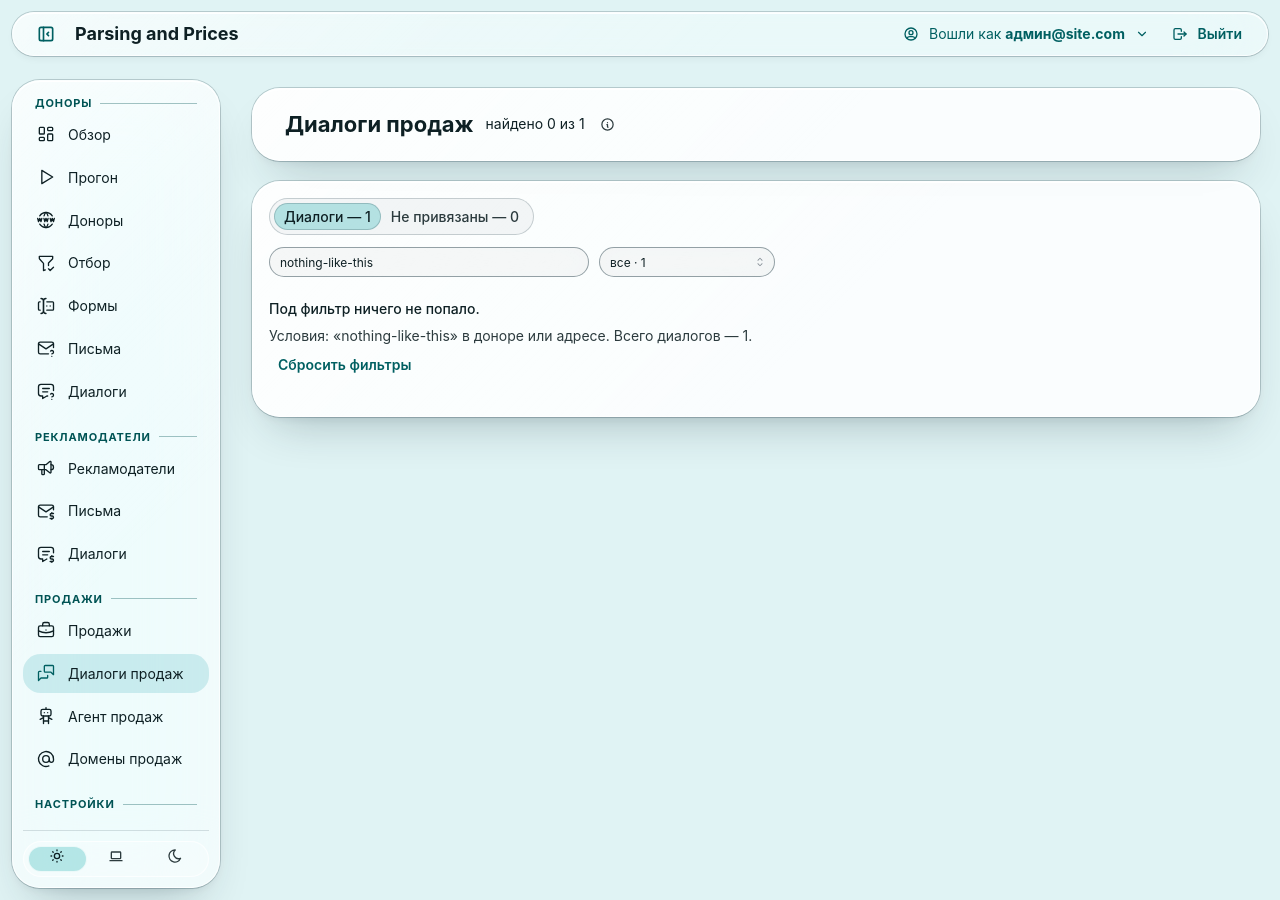
Test: части списка диалогов › сброс фильтров часть не сбрасывает: диалоги продаж остаются диалогами продаж
Expected: the navigation bar named "Разделы" is shown, top-left (0, 68), bottom-right (232, 899)
Click the button "Сбросить фильтры" at (345, 365), box top-left (269, 352), bottom-right (420, 378)
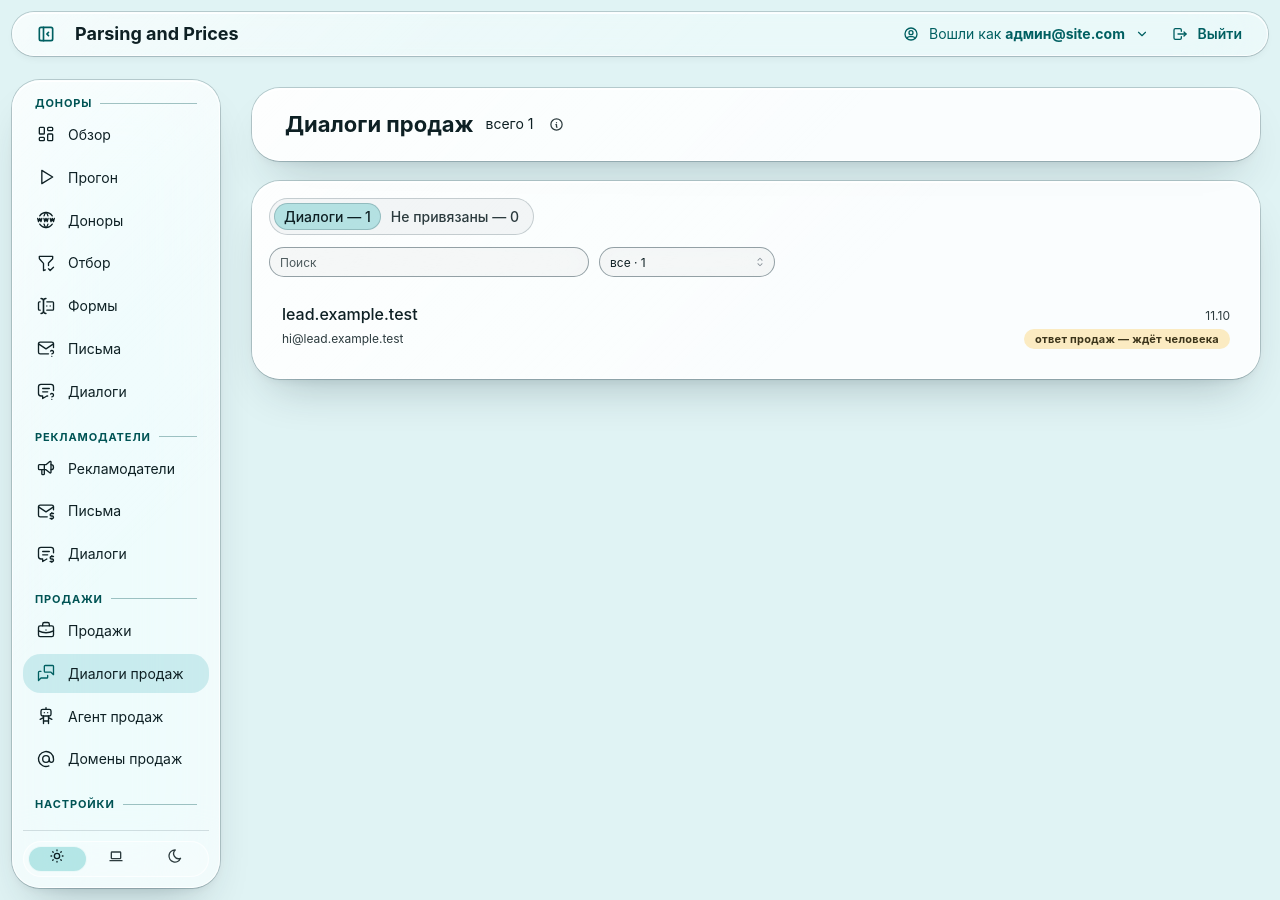
Now the text "lead.example.test" is shown, box top-left (282, 302), bottom-right (418, 327)
